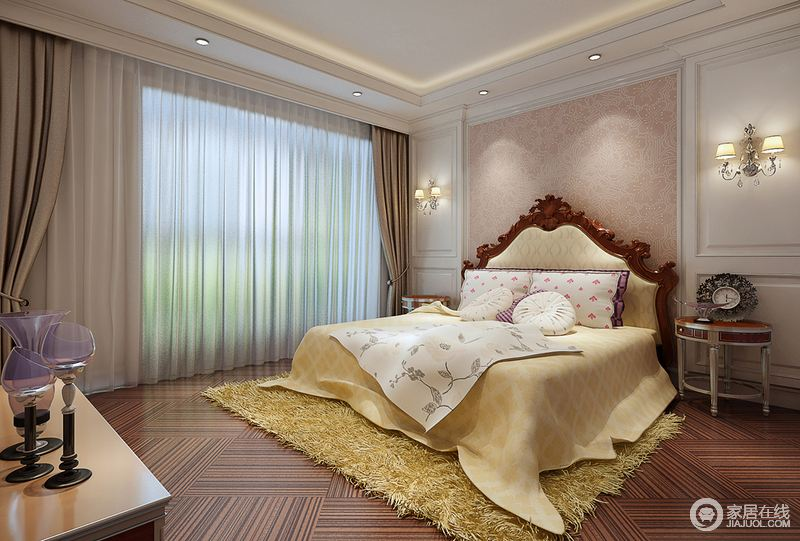床: (293, 307, 672, 467)
枕头: (463, 268, 623, 329)
灯: (713, 121, 786, 188), (409, 177, 441, 220), (187, 36, 209, 49), (581, 51, 600, 65), (346, 89, 365, 101), (471, 88, 488, 99)
